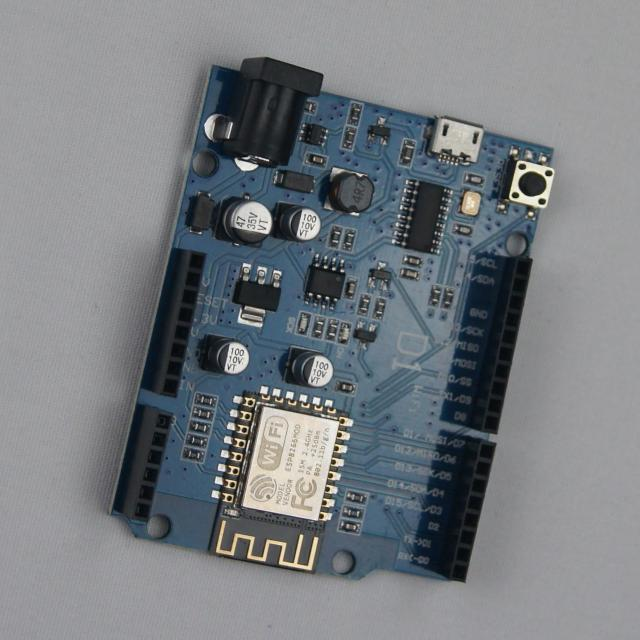Arduino Uno WiFi Shield: (112, 59, 555, 582)
